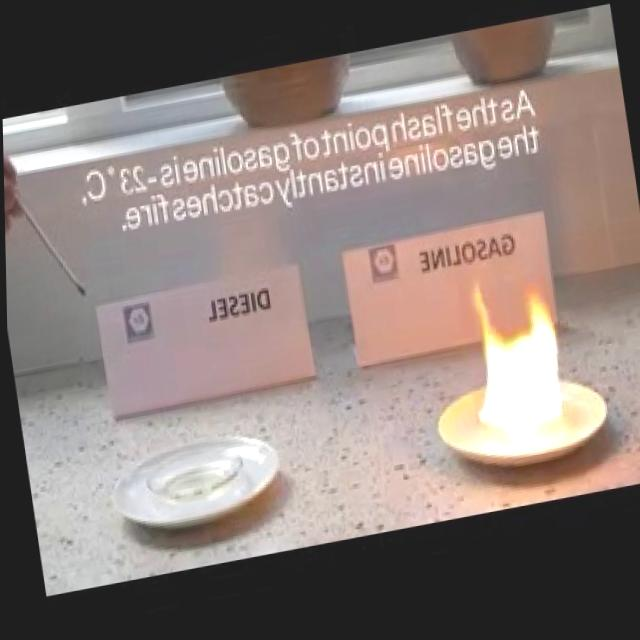Fire: (457, 268, 564, 455)
